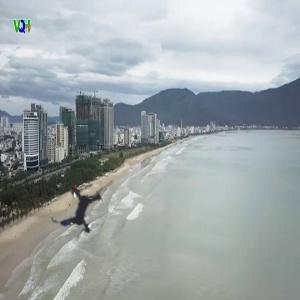drone: (26, 159, 134, 267)
